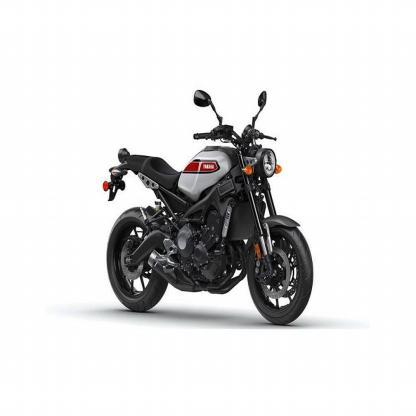Motorcycle: (89, 65, 320, 346)
